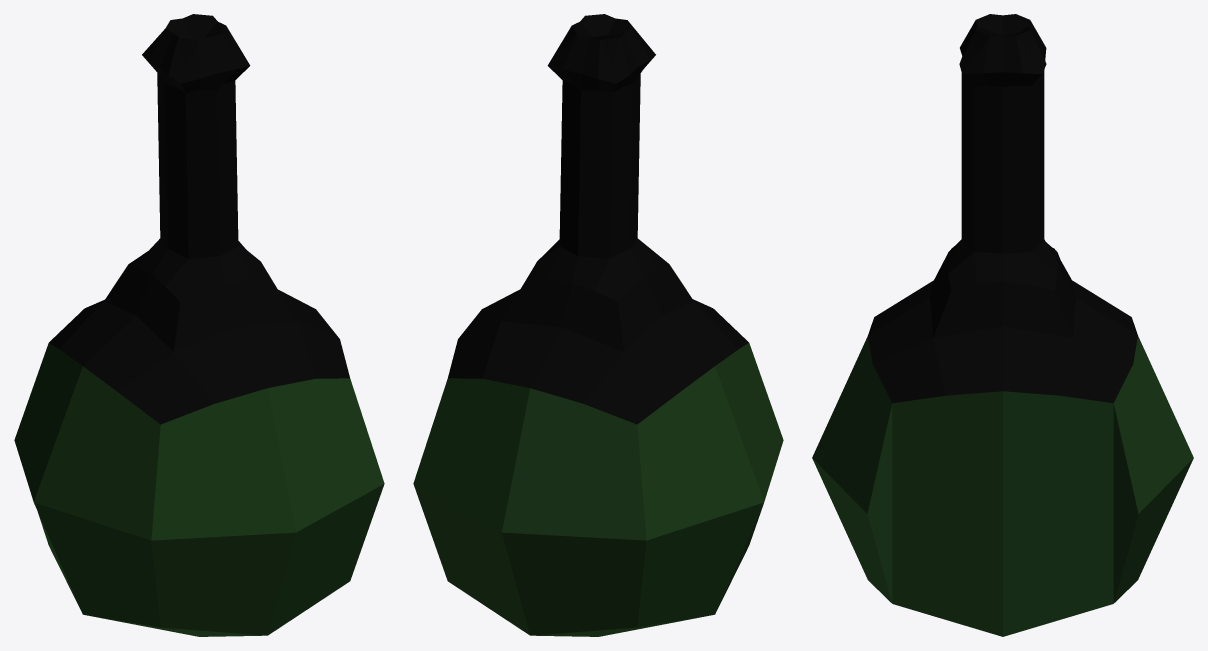
The picture shows the model from 3 angles, left to right: view 1: azimuth 30°, elevation 25°; view 2: azimuth 150°, elevation 25°; view 3: azimuth 270°, elevation 25°; orthographic projection.
Visible parts, largest first — view 1: Cañon; view 2: Cañon; view 3: Cañon.
Boxes of the visible parts, box(x1,y1,x2,y2) form: Cañon: box(14, 14, 384, 636); Cañon: box(413, 14, 783, 636); Cañon: box(812, 14, 1193, 636).
Size of the model in its own units: 291 by 603 by 345.
